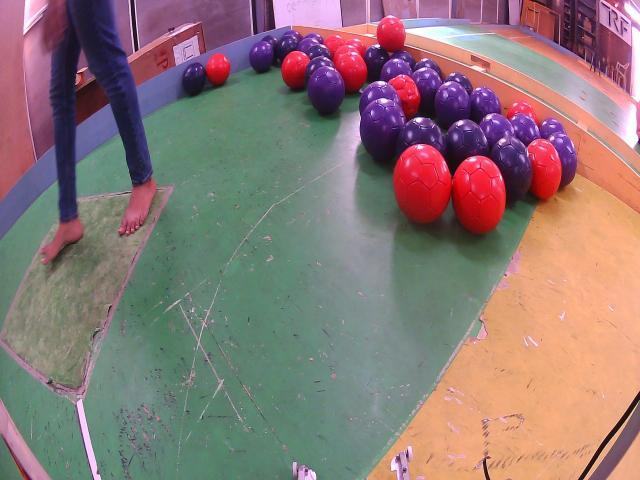jambhalya: (360, 98, 406, 162), (308, 67, 345, 113), (435, 82, 471, 128), (549, 132, 578, 186), (412, 67, 442, 118), (359, 80, 401, 114), (479, 113, 515, 151), (470, 87, 501, 123), (510, 113, 540, 147), (249, 40, 274, 73), (380, 58, 412, 82), (539, 117, 566, 138), (298, 37, 319, 53), (284, 28, 302, 40), (305, 32, 324, 43)
kaalyya: (490, 137, 532, 200), (396, 117, 448, 158), (446, 120, 489, 167), (364, 43, 390, 82), (305, 57, 334, 87), (182, 63, 206, 95), (276, 35, 299, 63), (445, 72, 472, 95), (414, 58, 442, 80), (390, 50, 416, 70), (306, 43, 332, 60), (262, 35, 278, 59)
